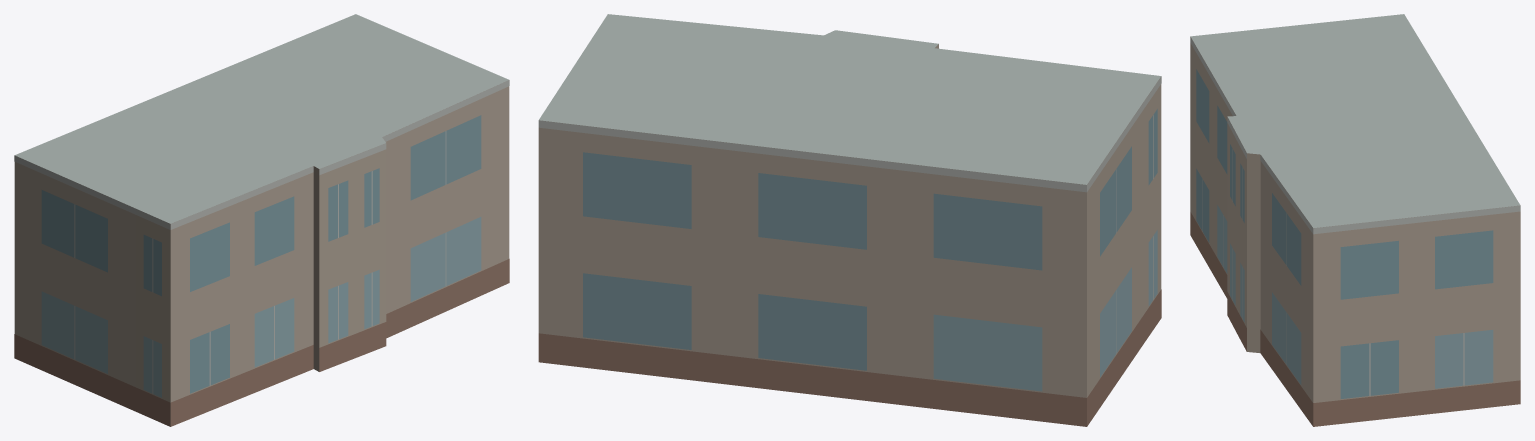
File: survey-upis-33017504.glb
3 views of the same model, side by side, from view 1: azimuth 30°, elevation 25°; view 2: azimuth 150°, elevation 25°; view 3: azimuth 270°, elevation 25° (orthographic). The views are drawn at different scales.
Parts seen in each view (by area): view 1: survey-upis-33017504.tmp; view 2: survey-upis-33017504.tmp; view 3: survey-upis-33017504.tmp.
Boxes of the visible parts, left/top/right/bottom form: survey-upis-33017504.tmp: left=14, top=14, right=509, bottom=426; survey-upis-33017504.tmp: left=538, top=14, right=1161, bottom=426; survey-upis-33017504.tmp: left=1190, top=14, right=1520, bottom=426.
Size of the model in its own units: 18.39 by 7.95 by 11.98.
